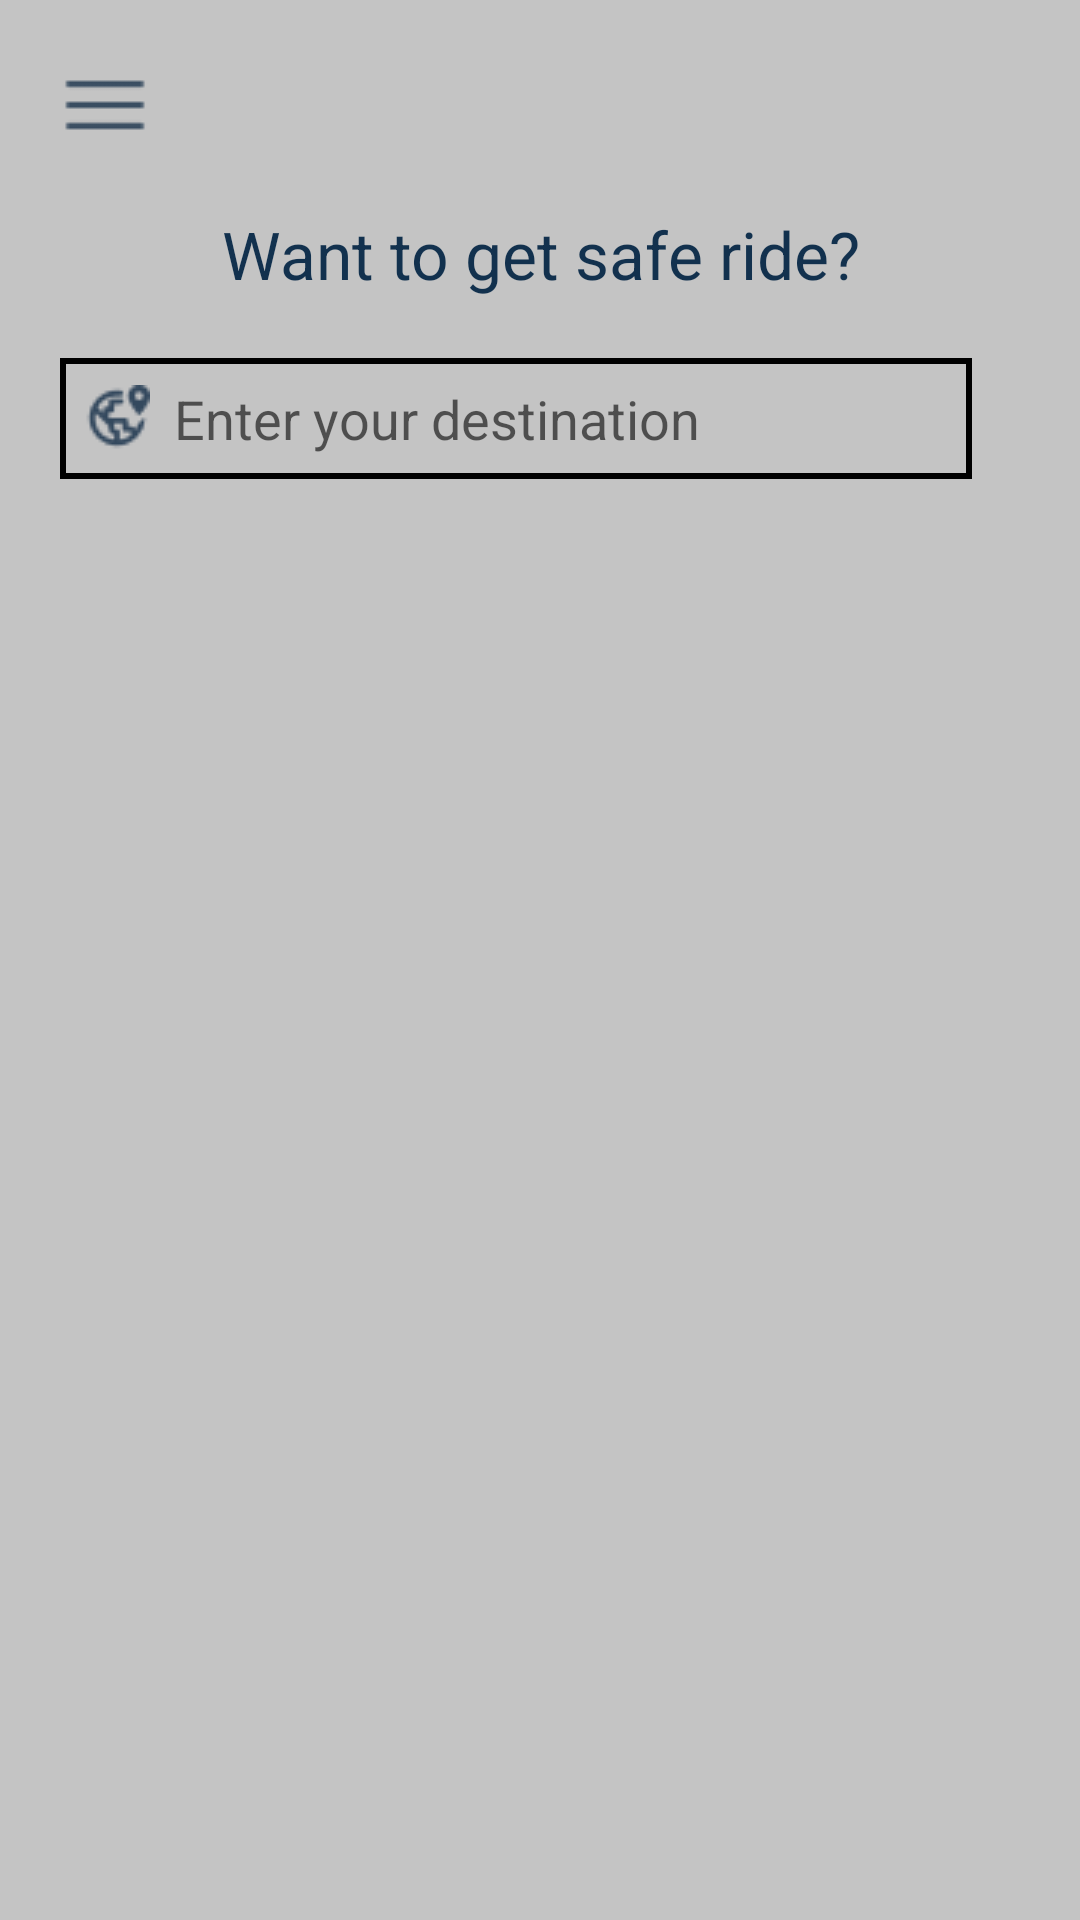

Icon click points for this 1080w x 1920h phone screenshot, format (x=x, y=y):
menu: (x=105, y=105)
